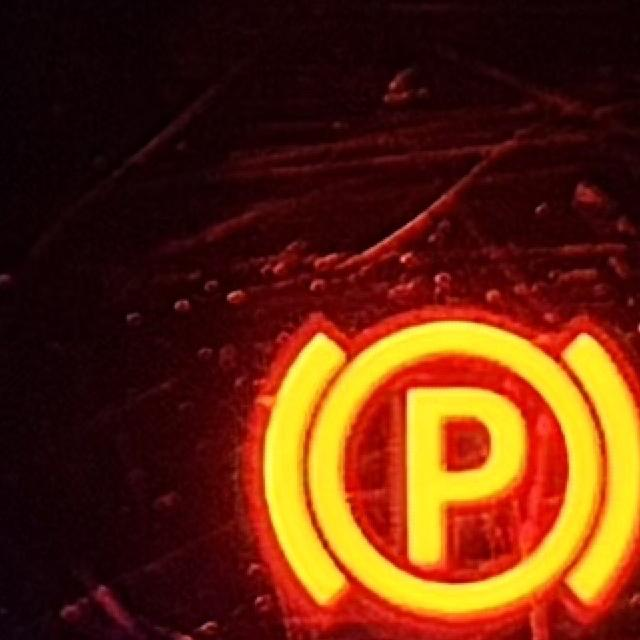Parking Break On: (259, 310, 640, 620)
